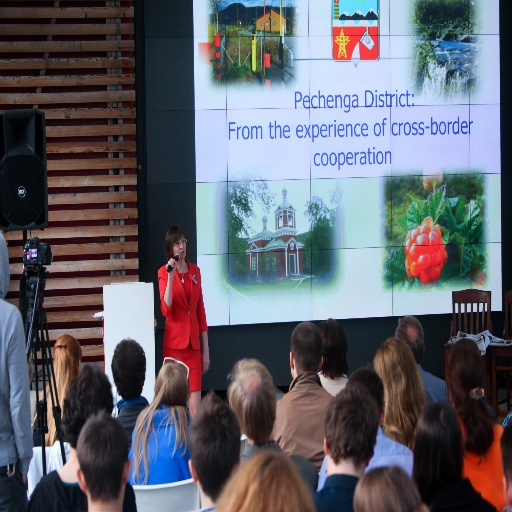hand: (201, 351, 210, 375), (165, 257, 176, 276)
